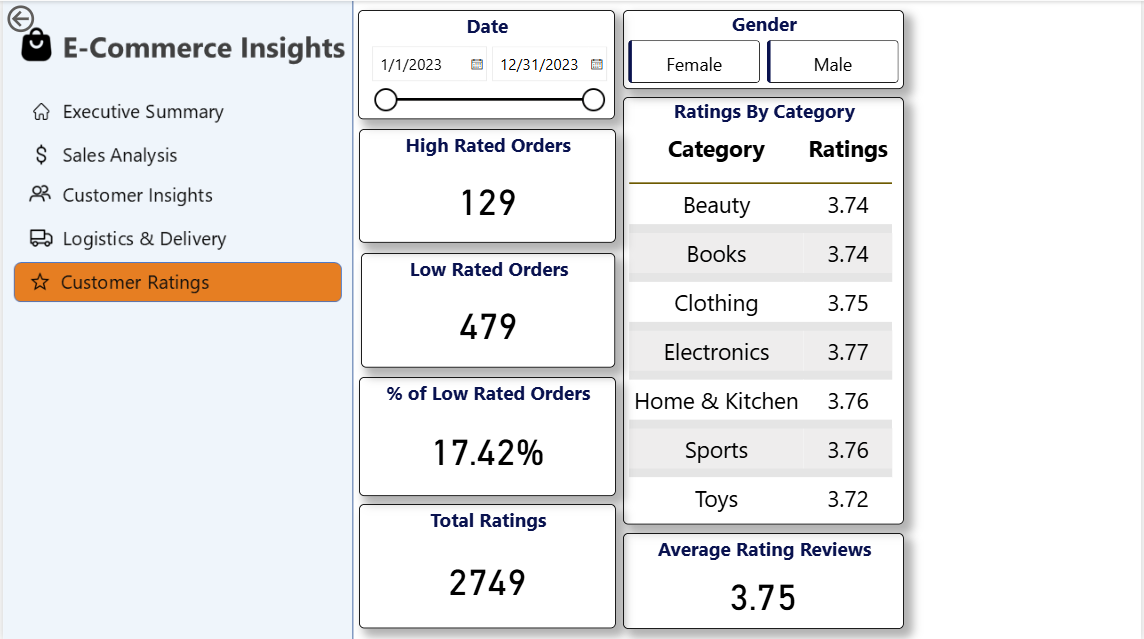

The dashboard page shown, as its layout file describes it:
{"tool":"powerbi","page":{"name":"Customer Ratings","canvas":[1280,720],"ordinal":4},"visuals":[{"type":"slicer","title":"Date ","fields":{"Values":["ecommerce sales.Date"]},"box":[399.5,9.9,289.2,123.1],"z":0},{"type":"actionButton","box":[0,0,100,40],"z":1000},{"type":"tableEx","title":"Ratings By Category","fields":{"Values":["ecommerce sales.category","Avg(ecommerce sales.review_rating)1"]},"box":[697.5,107.5,316.2,481.2],"z":2000},{"type":"card","title":"Average Rating Reviews","fields":{"Values":["Avg(ecommerce sales.review_rating)"]},"box":[697.5,598.8,316.2,107.5],"z":3000},{"type":"card","title":"% of Low Rated Orders","fields":{"Values":["Customer Type.percentage"]},"box":[400,422.5,288.8,133.8],"z":4000},{"type":"card","title":"Low Rated Orders","fields":{"Values":["CountNonNull(ecommerce sales.order_id)"]},"box":[402.5,283.8,286.2,128.8],"z":5000},{"type":"card","title":"High Rated Orders","fields":{"Values":["CountNonNull(ecommerce sales.order_id)"]},"box":[400,143.8,288.8,127.5],"z":6000},{"type":"actionButton","box":[18.8,146.2,353.8,50],"z":7000},{"type":"actionButton","box":[19,196,353,46],"z":8000},{"type":"actionButton","box":[19,242,353,50],"z":9000},{"type":"actionButton","box":[18.8,100,353.8,46.2],"z":10000},{"type":"advancedSlicerVisual","title":"Gender","fields":{"Values":["ecommerce sales.gender"]},"box":[697.5,10,316.2,88.8],"z":11000},{"type":"card","title":"Total Ratings","fields":{"Values":["CountNonNull(ecommerce sales.review_rating)"]},"box":[400,566.2,288.8,140],"z":12000}]}

Visuals, with their boxes on the page's 1280x720 design canvas (x1, y1, x2, y2). These are canvas units, not pixel positions in the 1144x639 screenshot, which may show the page scaled, cropped or inside an application window:
"Date " slicer: bbox=[400, 10, 689, 133]
actionButton: bbox=[0, 0, 100, 40]
"Ratings By Category" tableEx: bbox=[698, 108, 1014, 589]
"Average Rating Reviews" card: bbox=[698, 599, 1014, 706]
"% of Low Rated Orders" card: bbox=[400, 422, 689, 556]
"Low Rated Orders" card: bbox=[402, 284, 689, 413]
"High Rated Orders" card: bbox=[400, 144, 689, 271]
actionButton: bbox=[19, 146, 373, 196]
actionButton: bbox=[19, 196, 372, 242]
actionButton: bbox=[19, 242, 372, 292]
actionButton: bbox=[19, 100, 373, 146]
"Gender" advancedSlicerVisual: bbox=[698, 10, 1014, 99]
"Total Ratings" card: bbox=[400, 566, 689, 706]
